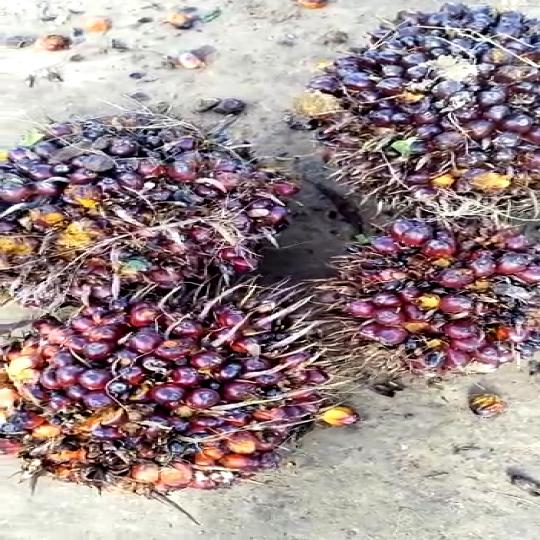masak: (0, 276, 344, 494), (274, 6, 540, 224), (0, 96, 268, 307), (300, 208, 532, 384)
